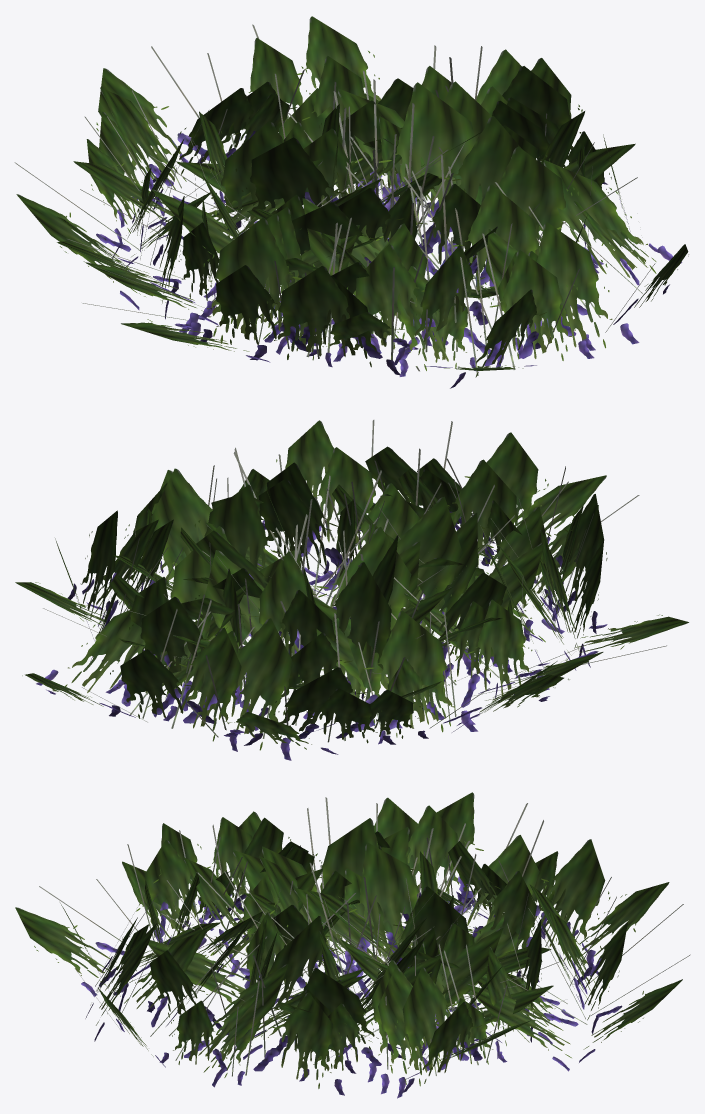
Rendered from grass_10.glb.
3 renders of one model, top to bottom at view 1: azimuth 30°, elevation 25°; view 2: azimuth 150°, elevation 25°; view 3: azimuth 270°, elevation 25°, orthographic. The views are drawn at different scales.
Parts seen in each view (by area): view 1: Grass_10; view 2: Grass_10; view 3: Grass_10.
Part boxes in pixels (x1,y1,x2,y2): Grass_10: (14, 16, 688, 388); Grass_10: (15, 420, 688, 760); Grass_10: (15, 792, 690, 1098).
Bounding box in the file's own units: 0.3414 × 0.0792 × 0.3981.
1 material, 1 textured.
